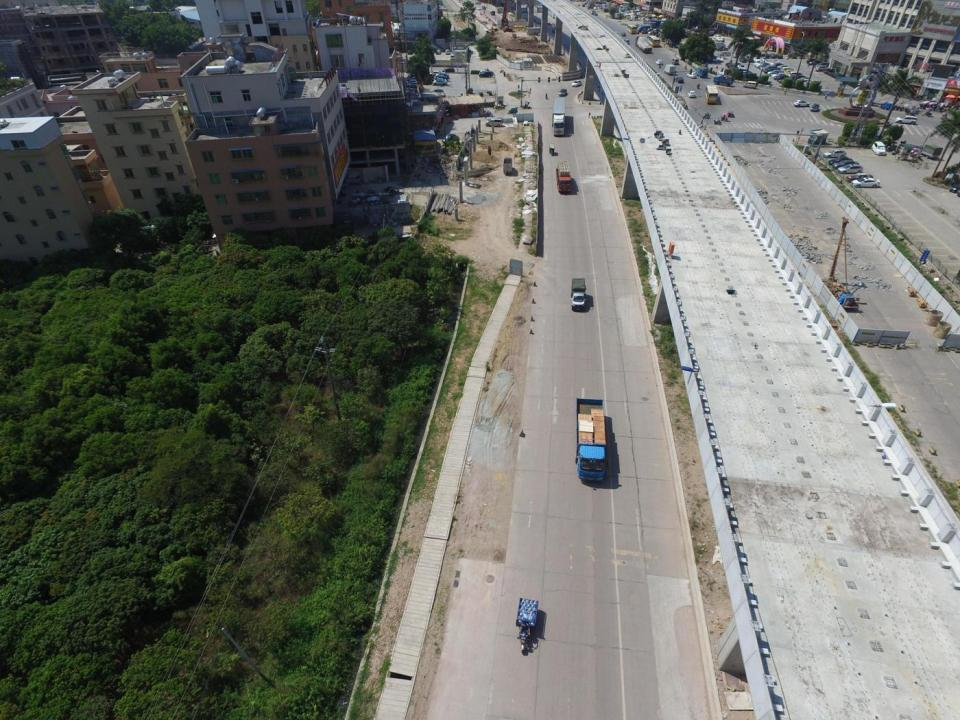bus: (705, 84, 718, 106), (648, 36, 659, 47), (627, 24, 638, 35)
car: (850, 178, 880, 187), (847, 173, 873, 182), (832, 159, 858, 168), (839, 164, 862, 174), (823, 149, 847, 158), (871, 141, 886, 155), (828, 157, 854, 165), (894, 116, 918, 124), (442, 133, 456, 145), (404, 83, 418, 92), (794, 99, 809, 107), (771, 71, 786, 79), (479, 70, 492, 78), (773, 74, 790, 80), (765, 68, 781, 74), (796, 77, 809, 84), (428, 90, 445, 95), (434, 75, 448, 81), (442, 67, 454, 74), (811, 103, 820, 112), (405, 79, 420, 84), (559, 88, 568, 96), (732, 62, 744, 68), (816, 64, 828, 70), (717, 46, 727, 53), (745, 55, 755, 62), (571, 80, 582, 86), (792, 74, 803, 80), (762, 65, 773, 71), (737, 64, 748, 70), (727, 64, 738, 70), (433, 80, 446, 85), (436, 73, 448, 78), (408, 76, 420, 81), (686, 72, 696, 78), (780, 67, 790, 73), (755, 60, 767, 65), (758, 62, 768, 68), (807, 59, 819, 64), (772, 61, 783, 66), (785, 70, 794, 76), (738, 56, 747, 62), (804, 82, 817, 86), (817, 62, 830, 66), (803, 80, 813, 85), (688, 92, 696, 98), (676, 77, 684, 83), (656, 59, 663, 65), (726, 62, 733, 68), (431, 72, 441, 76), (778, 65, 786, 70), (445, 49, 451, 55), (754, 56, 760, 62), (761, 56, 767, 62), (717, 56, 724, 61), (762, 53, 769, 58), (770, 53, 776, 58), (620, 33, 627, 37), (714, 35, 721, 39), (717, 37, 724, 41), (778, 53, 783, 58), (450, 55, 454, 61), (712, 56, 716, 62), (580, 3, 586, 7), (707, 52, 710, 59), (409, 50, 412, 56), (645, 18, 651, 21), (437, 50, 441, 54), (476, 7, 480, 11), (482, 6, 486, 10)
truck: (503, 18, 513, 31), (491, 22, 498, 30)
van: (574, 398, 606, 481), (556, 161, 573, 193), (552, 97, 565, 136), (571, 277, 586, 309), (919, 145, 943, 158), (635, 37, 651, 54), (712, 74, 732, 86), (485, 118, 503, 127), (503, 158, 513, 173), (695, 67, 709, 77), (638, 26, 656, 33), (743, 81, 759, 88), (652, 19, 662, 30), (664, 65, 675, 74), (788, 71, 802, 78), (660, 17, 667, 30), (714, 41, 725, 47), (672, 58, 680, 64), (718, 52, 730, 56), (624, 40, 629, 44), (490, 11, 496, 14)
